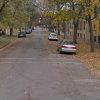Car: (47, 30, 78, 57)
